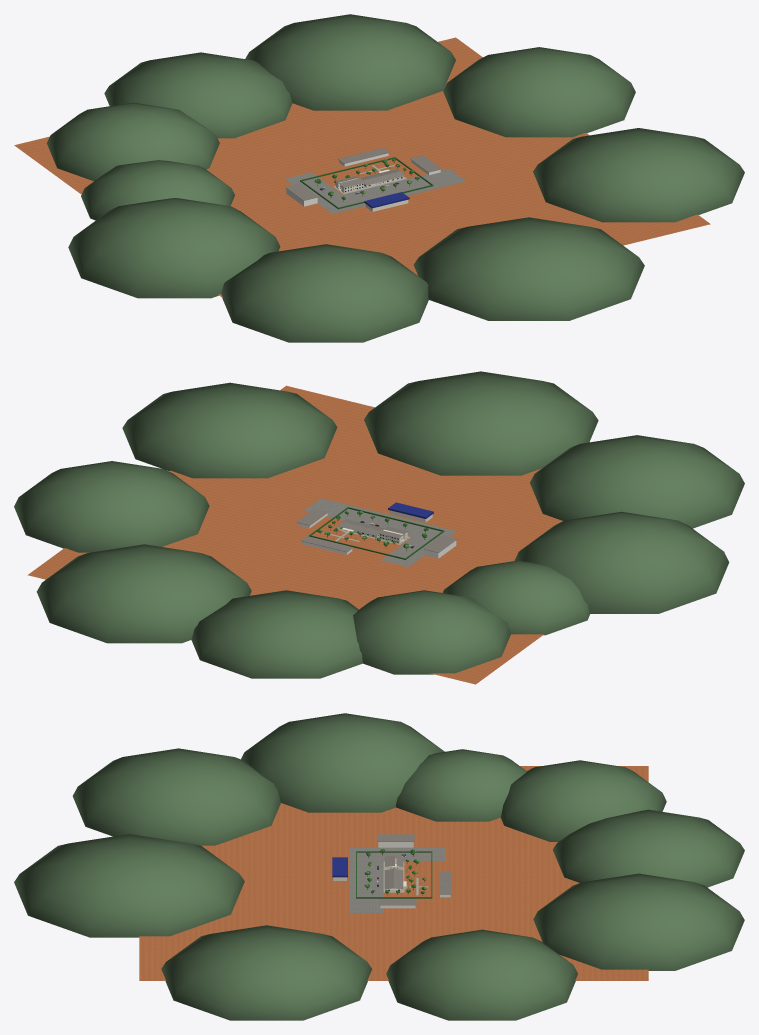
File: cenario_dca.glb
3 views of the same model, one above another, from view 1: azimuth 30°, elevation 25°; view 2: azimuth 150°, elevation 25°; view 3: azimuth 270°, elevation 25° (orthographic).
Parts seen in each view (by area): view 1: Cenario_DCA; view 2: Cenario_DCA; view 3: Cenario_DCA.
Part boxes in pixels (<box>): Cenario_DCA: <box>14,14,744,342</box>; Cenario_DCA: <box>14,371,744,684</box>; Cenario_DCA: <box>14,713,744,1020</box>.
Bounding box in the file's own units: 714 × 40 × 747.
65 materials, 6 textured.
